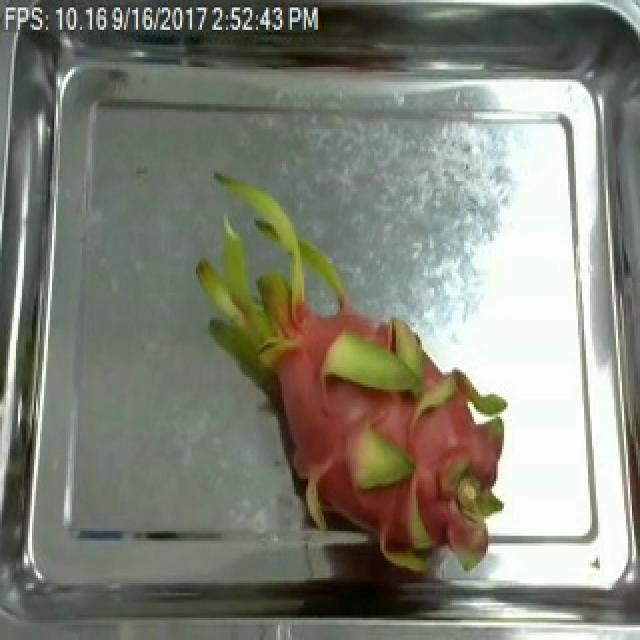fruit: (182, 176, 542, 591)
